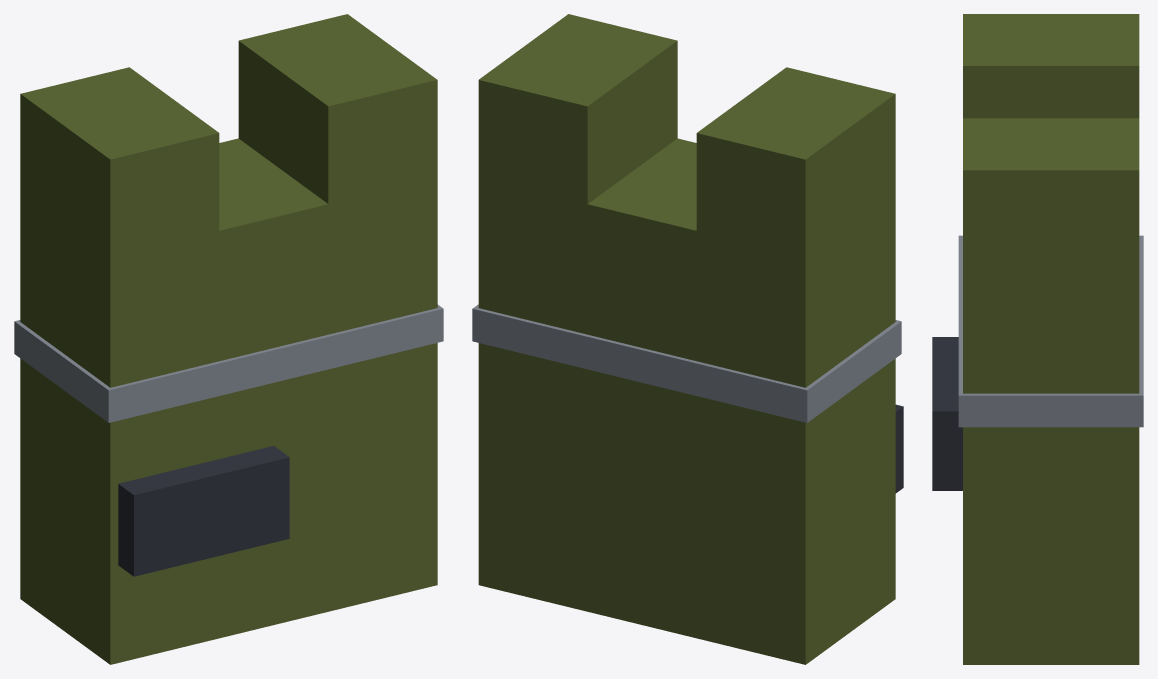
File: vest_lv1.glb
The picture shows the model from 3 angles, left to right: view 1: azimuth 30°, elevation 25°; view 2: azimuth 150°, elevation 25°; view 3: azimuth 270°, elevation 25°; orthographic projection. The views are drawn at different scales.
Visible parts, largest first — view 1: model; view 2: model; view 3: model.
Part boxes in pixels (bbox=[...]): model: bbox=[14, 14, 443, 664]; model: bbox=[472, 14, 903, 664]; model: bbox=[932, 14, 1143, 664].
Size of the model in its own units: 0.43 by 0.62 by 0.24.
